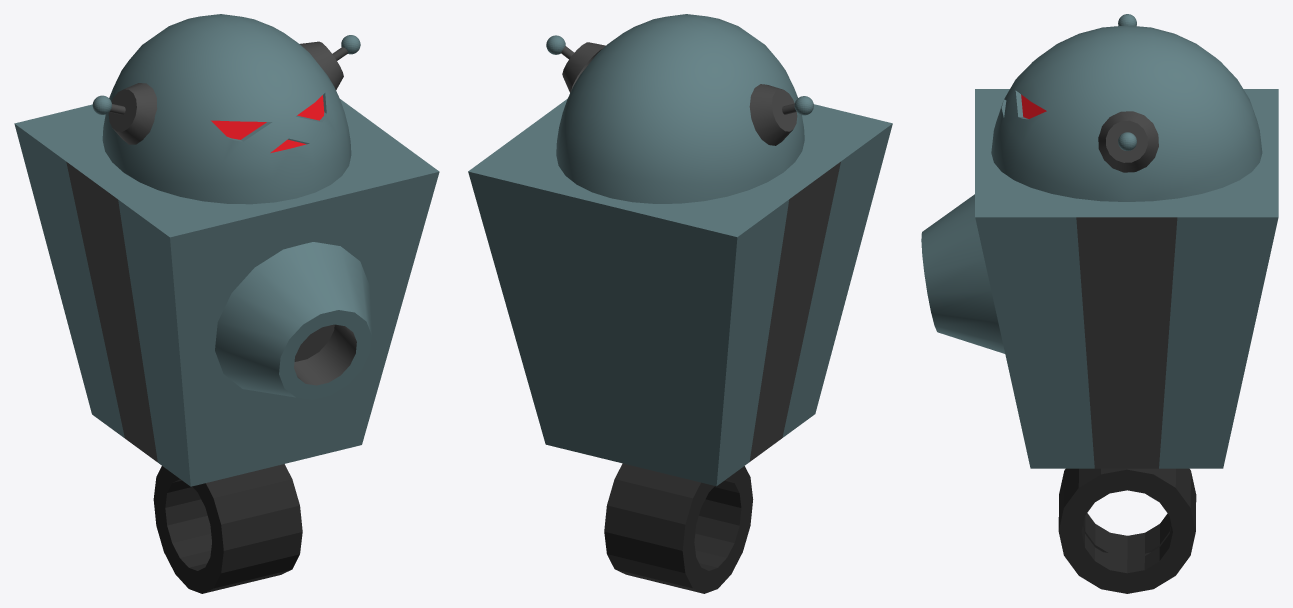
Rendered from enemy.fbx.
The picture shows the model from 3 angles, left to right: view 1: azimuth 30°, elevation 25°; view 2: azimuth 150°, elevation 25°; view 3: azimuth 270°, elevation 25°; orthographic projection. The views are drawn at different scales.
Visible parts, largest first — view 1: enemy, ears, tire; view 2: enemy, ears, tire; view 3: enemy, ears, tire.
Part boxes in pixels (x1,y1,x2,y2): enemy: [14, 99, 439, 486]; ears: [92, 14, 360, 204]; tire: [153, 464, 302, 593]; enemy: [468, 99, 892, 486]; ears: [546, 14, 813, 203]; tire: [604, 463, 753, 593]; enemy: [921, 89, 1278, 468]; ears: [991, 14, 1262, 201]; tire: [1058, 468, 1196, 593].
Size of the model in its own units: 1.01 by 1.98 by 1.19.
